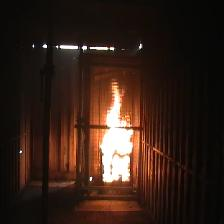fire: (100, 82, 133, 182)
